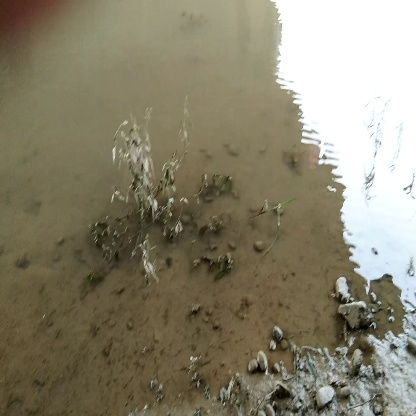grass: (105, 117, 185, 236)
